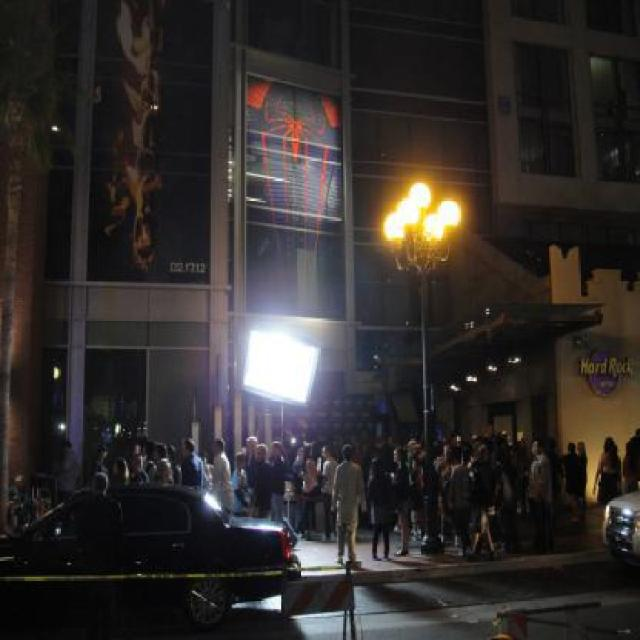Person: (79, 434, 596, 578), (592, 440, 626, 506)
